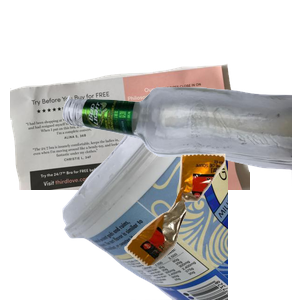glass: (60, 84, 300, 260)
paper: (10, 61, 250, 241)
plastic: (60, 120, 300, 300)
trash: (122, 151, 300, 300)
